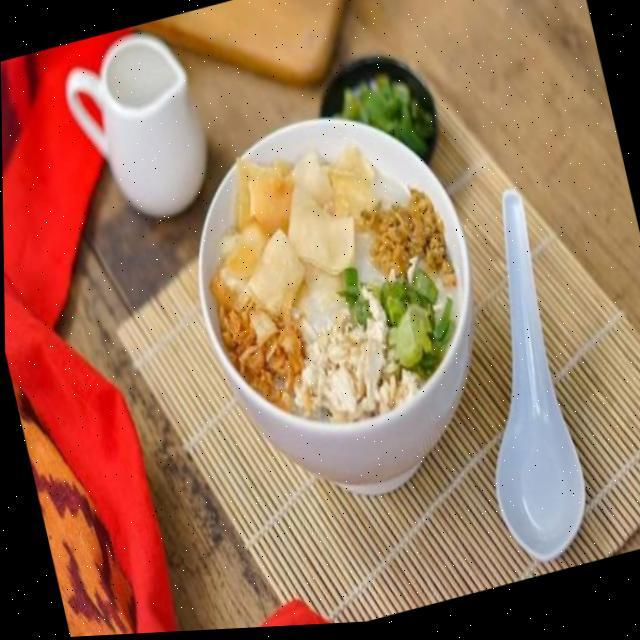bubur ayam: (187, 120, 483, 457)
mangkuk: (165, 83, 518, 533), (307, 39, 448, 191)
